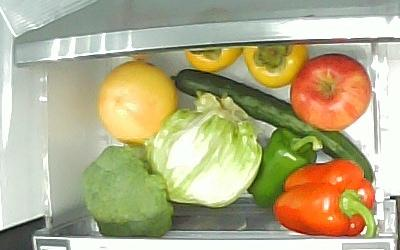apple: (289, 53, 372, 132)
broccoli: (81, 145, 173, 237)
cucumber: (170, 69, 374, 187)
grapefruit: (97, 60, 179, 145)
lettuce: (141, 91, 262, 207)
paprika: (273, 158, 378, 238), (246, 128, 322, 208)
persimmon: (243, 41, 308, 89), (182, 45, 244, 72)
